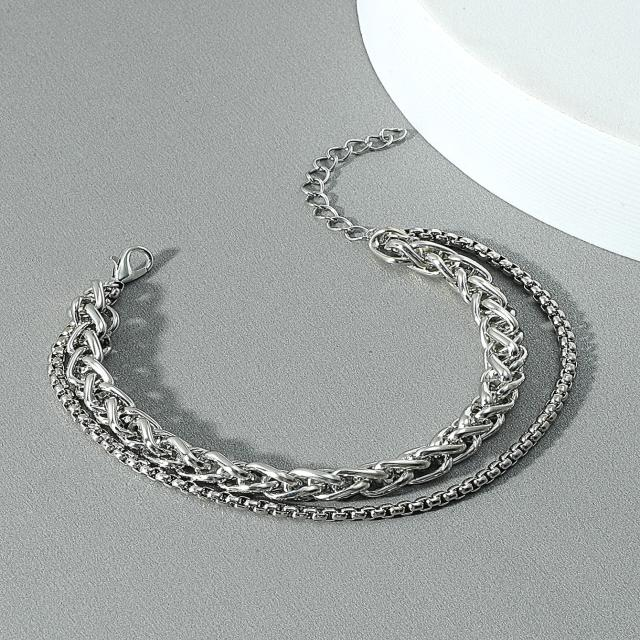bracelet: (8, 84, 640, 562)
